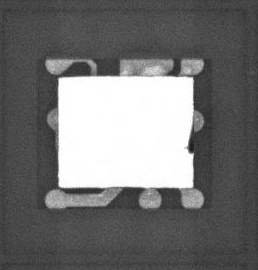DIE_BROKEN: (185, 126, 195, 156)
